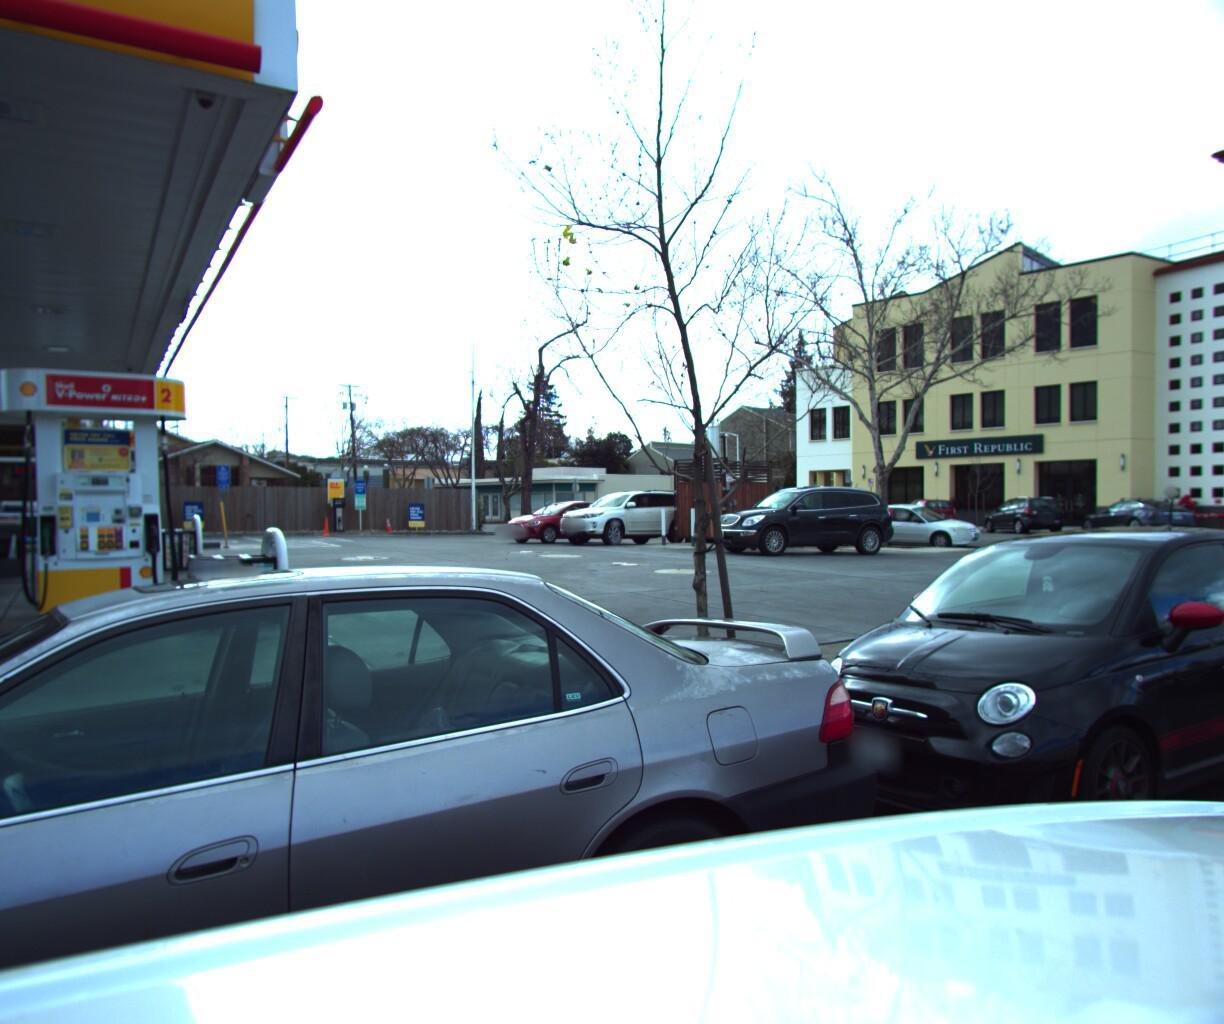car: (0, 538, 929, 1024), (764, 514, 1224, 918), (696, 477, 909, 558), (552, 484, 705, 546), (842, 497, 996, 547), (496, 495, 638, 545), (1076, 488, 1213, 534), (976, 490, 1078, 531), (895, 493, 967, 529)
